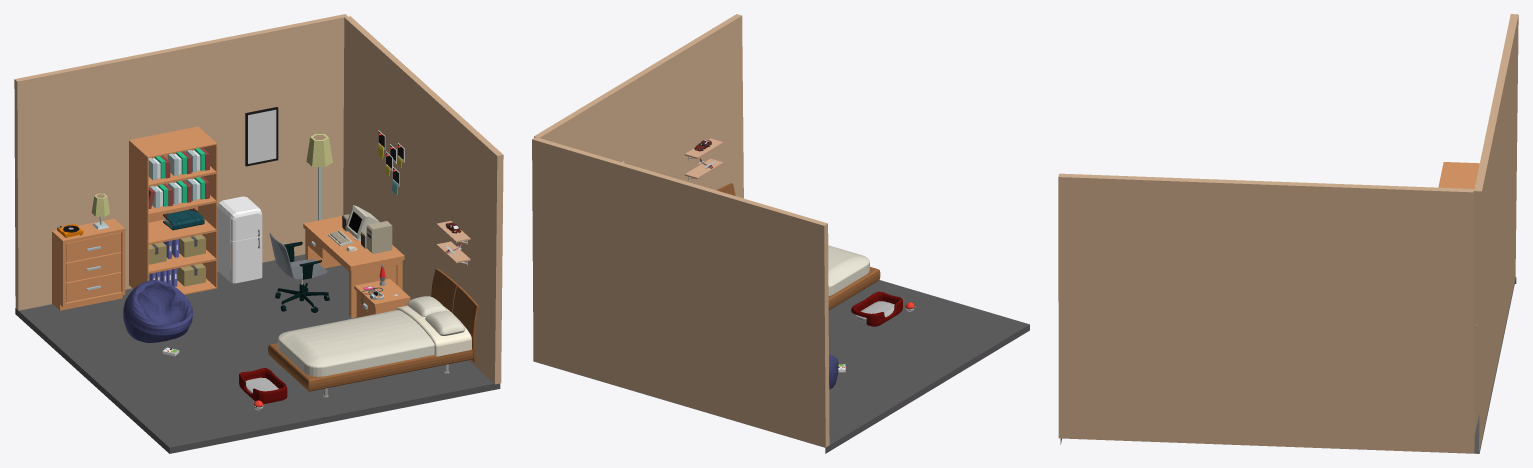
The model's file is bedroom-draco.glb.
The picture shows the model from 3 angles, left to right: view 1: azimuth 30°, elevation 25°; view 2: azimuth 150°, elevation 25°; view 3: azimuth 270°, elevation 25°; orthographic projection. The views are drawn at different scales.
Visible parts, largest first — view 1: scene, library, periferics, monitor.001; view 2: scene; view 3: scene, library.
Part boxes in pixels (bbox=[...]): scene: bbox=[14, 14, 503, 453]; library: bbox=[129, 126, 217, 294]; periferics: bbox=[328, 214, 392, 253]; monitor.001: bbox=[345, 205, 379, 241]; scene: bbox=[532, 14, 1029, 453]; scene: bbox=[1058, 14, 1518, 453]; library: bbox=[1438, 162, 1479, 188].
Size of the model in its own units: 2.18 by 1.42 by 2.19.
